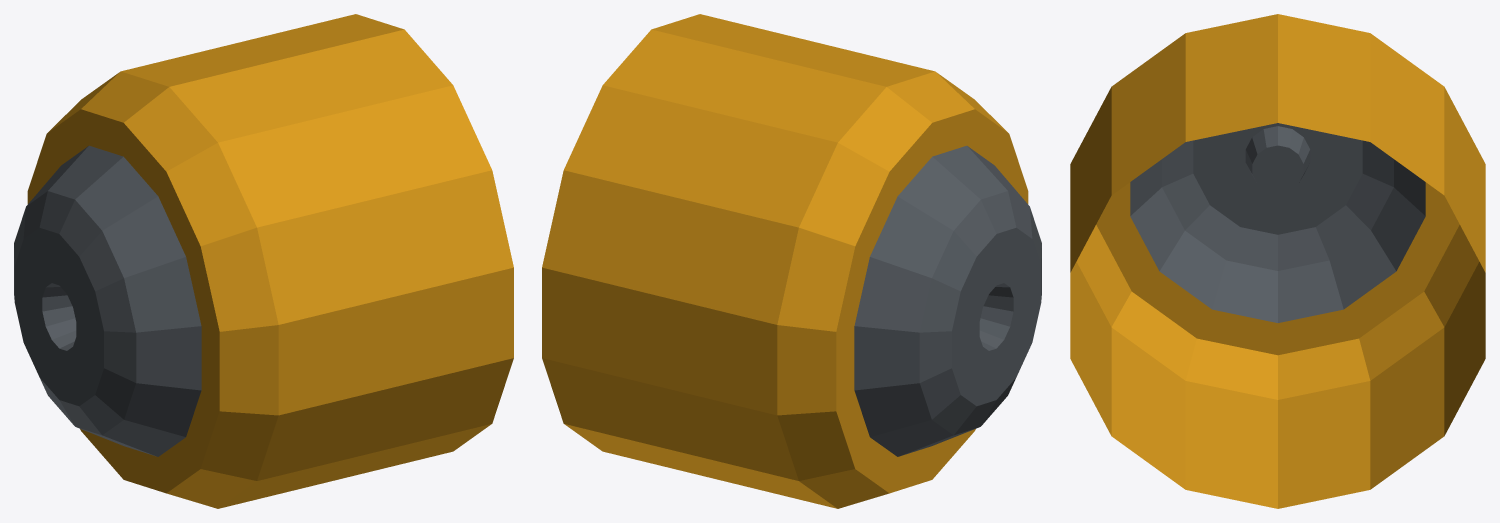
The model's file is Personal_Vehicle_03_Detail_1_Yellow.fbx.
3 views of the same model, side by side, from view 1: azimuth 30°, elevation 25°; view 2: azimuth 150°, elevation 25°; view 3: azimuth 270°, elevation 25° (orthographic). The views are drawn at different scales.
Visible parts, largest first — view 1: Personal_Vehicle_03_Detail_1_Yellow; view 2: Personal_Vehicle_03_Detail_1_Yellow; view 3: Personal_Vehicle_03_Detail_1_Yellow.
Boxes of the visible parts, x1,y1,x2,y2 form: Personal_Vehicle_03_Detail_1_Yellow: (14,14,513,508); Personal_Vehicle_03_Detail_1_Yellow: (542,14,1041,508); Personal_Vehicle_03_Detail_1_Yellow: (1070,14,1485,508).
Bounding box in the file's own units: 9.82 × 11.05 × 10.77.
Materials: 1 (1 with a texture image).
